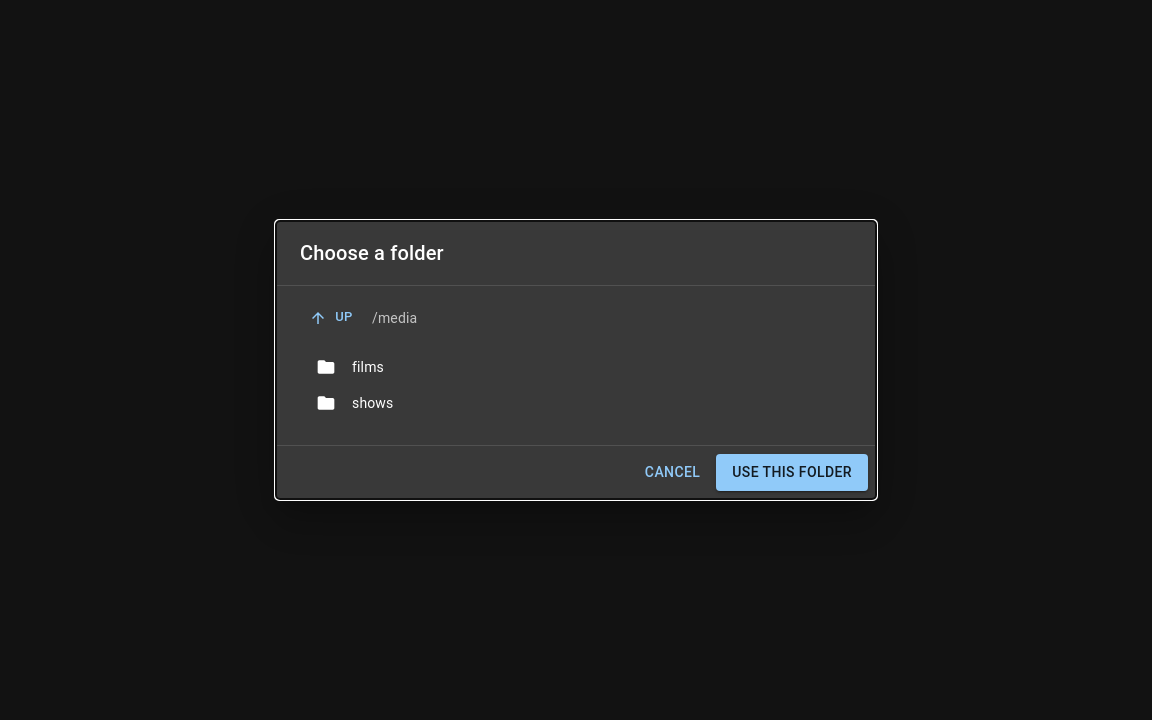
Scenario: DirectoryPickerDialog › descends into a folder that is clicked
Click the button "films".
click(350, 367)  # box [316,357,384,377]
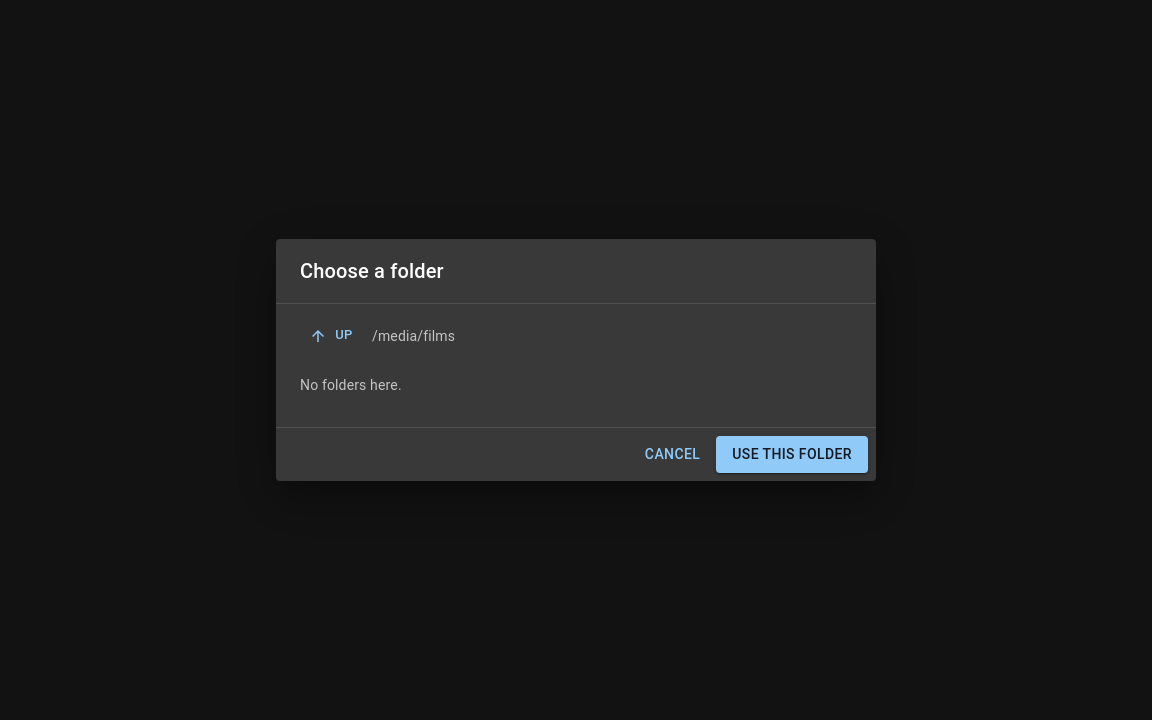
expect the text "No folders here." is shown: met, box [300,377,402,393]
